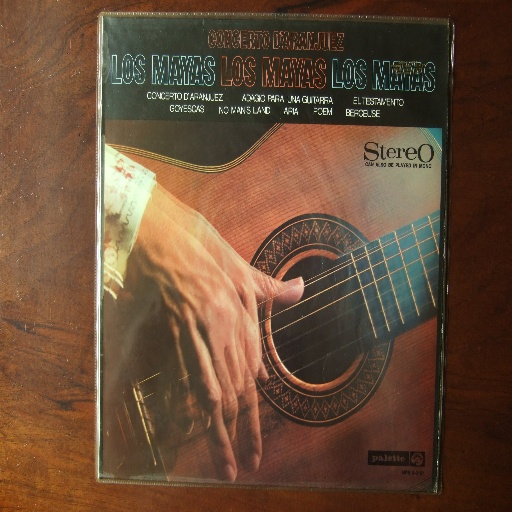hand: (126, 208, 334, 465)
